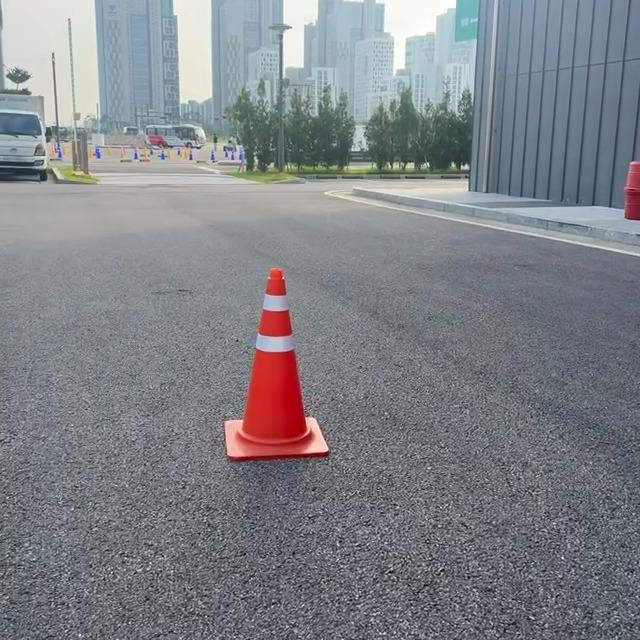fallen_object: (139, 296, 363, 486)
